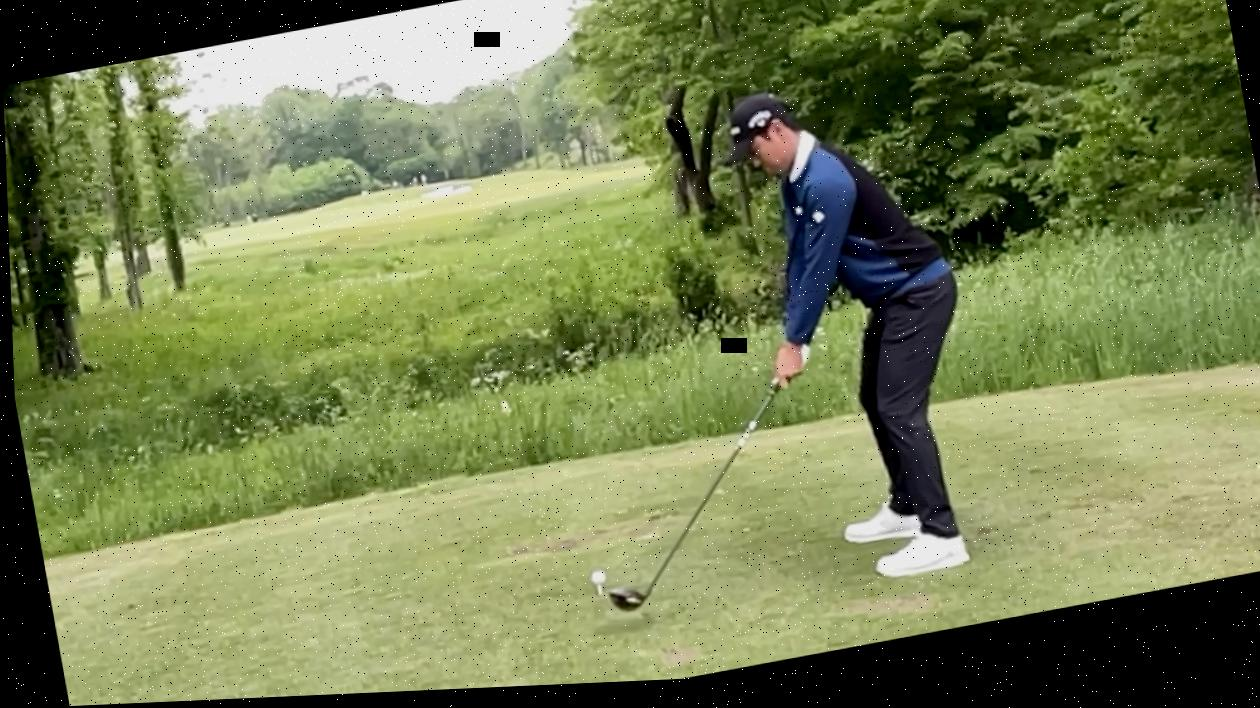ClubHead: (601, 583, 659, 622)
GolfBall: (583, 571, 603, 593)
